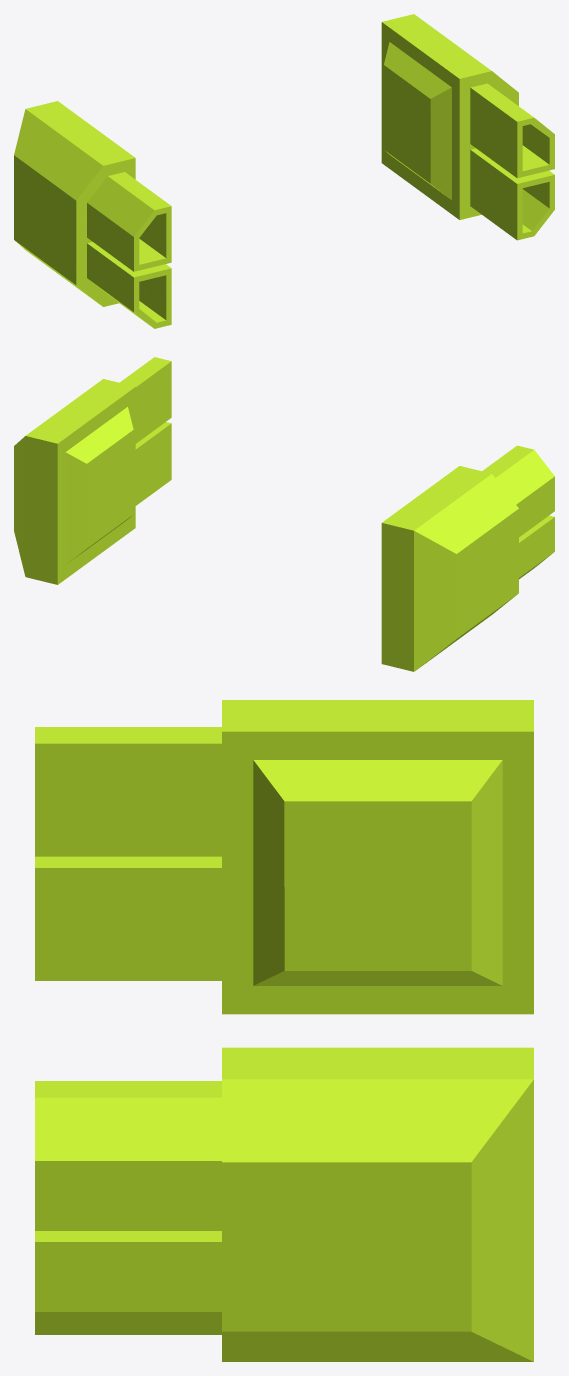
The model's file is TrooperWeaponDefault.fbx.
3 renders of one model, top to bottom at view 1: azimuth 30°, elevation 25°; view 2: azimuth 150°, elevation 25°; view 3: azimuth 270°, elevation 25°, orthographic. The views are drawn at different scales.
Visible parts, largest first — view 1: LeftWeapon, RightWeapon; view 2: RightWeapon, LeftWeapon; view 3: RightWeapon, LeftWeapon.
Boxes of the visible parts, x1,y1,x2,y2 form: LeftWeapon: [381, 14, 554, 240]; RightWeapon: [14, 101, 171, 328]; RightWeapon: [381, 445, 554, 671]; LeftWeapon: [14, 357, 171, 584]; RightWeapon: [35, 700, 533, 1014]; LeftWeapon: [35, 1047, 533, 1361].
Size of the model in its own units: 208 by 63.5 by 102.
